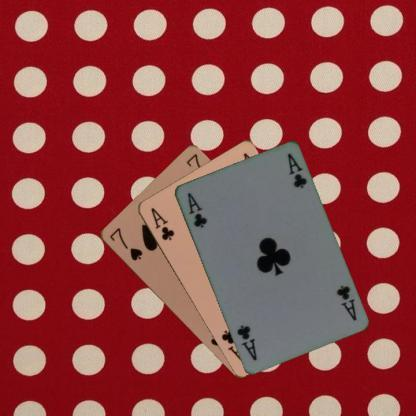7s: (106, 224, 144, 262)
Ac: (148, 204, 176, 242), (333, 282, 358, 322), (184, 191, 208, 228)
